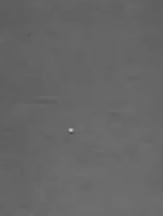Target: (65, 126, 77, 137)
